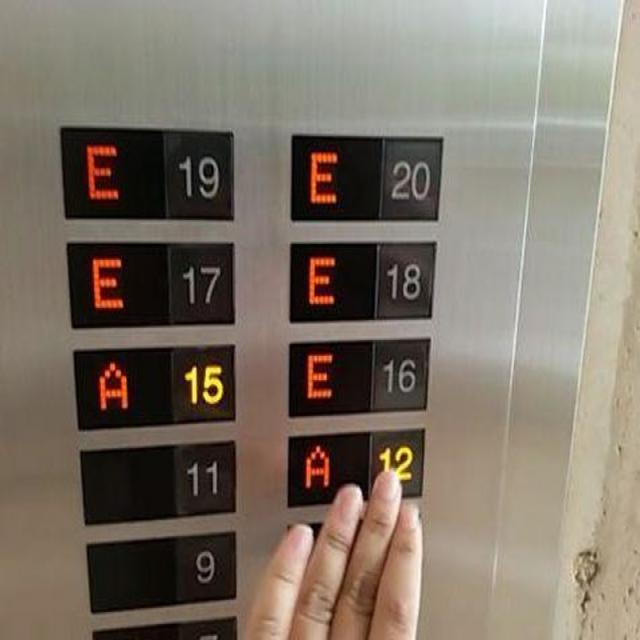11: (170, 437, 238, 520)
12: (364, 423, 426, 500)
15: (167, 340, 237, 427)
16: (365, 333, 432, 415)
17: (163, 237, 238, 327)
18: (373, 235, 438, 322)
19: (159, 121, 236, 224)
20: (375, 130, 444, 226)
9: (173, 527, 238, 605)
A: (70, 343, 172, 432), (282, 426, 373, 511)
E: (58, 120, 170, 223), (62, 236, 172, 331), (286, 129, 384, 224), (286, 239, 380, 324), (284, 336, 376, 417)
